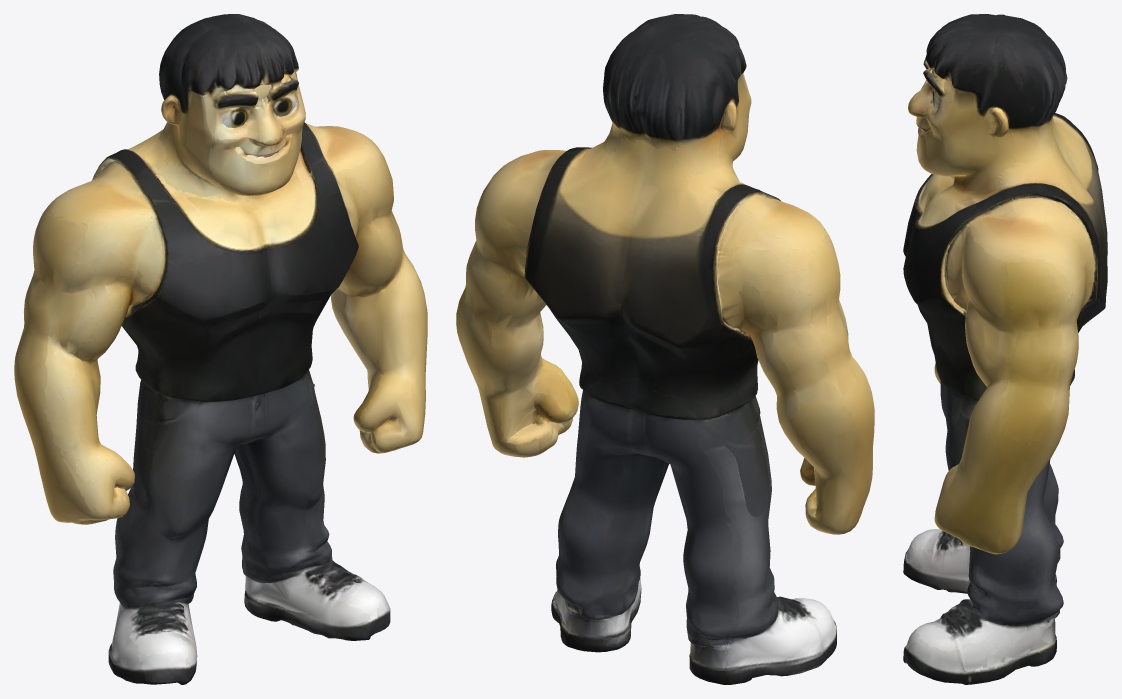
Rendered from naiwa_xigema_runtime.glb.
3 renders of one model, left to right at view 1: azimuth 30°, elevation 25°; view 2: azimuth 150°, elevation 25°; view 3: azimuth 270°, elevation 25°, orthographic. The views are drawn at different scales.
Parts seen in each view (by area): view 1: geometry_0; view 2: geometry_0; view 3: geometry_0.
Boxes of the visible parts, bbox=[...] form: geometry_0: bbox=[14, 14, 427, 684]; geometry_0: bbox=[456, 14, 874, 684]; geometry_0: bbox=[903, 14, 1107, 684].
Bounding box in the file's own units: 0.1361 × 0.2 × 0.0619.
1 material, 1 textured.
